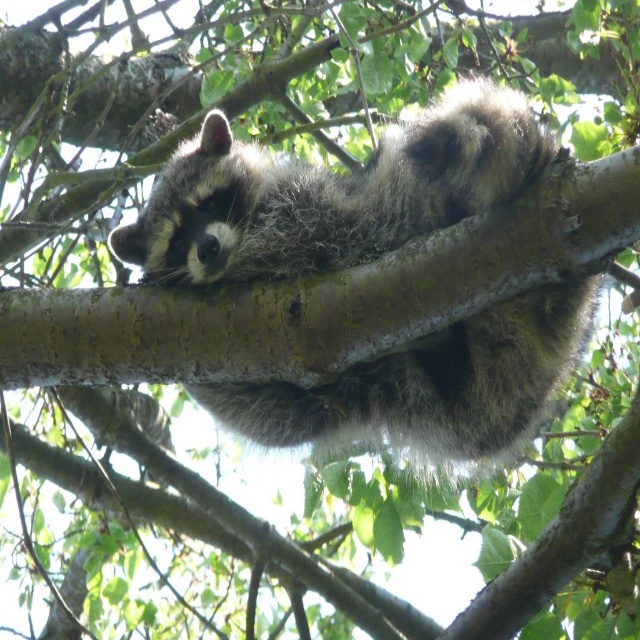Raccoon: (107, 69, 612, 509)
